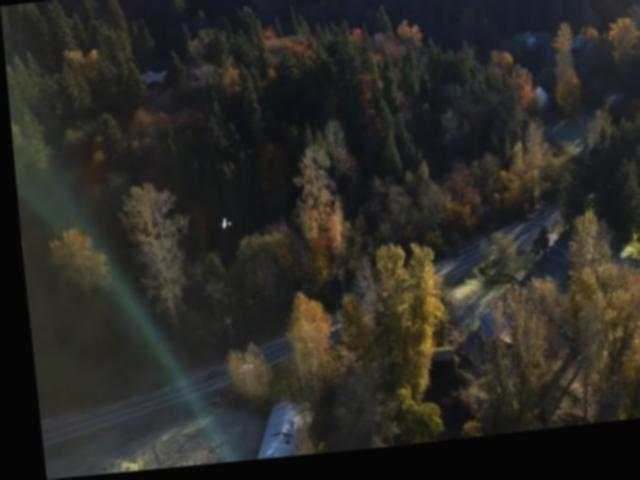uav: (208, 213, 235, 244)
